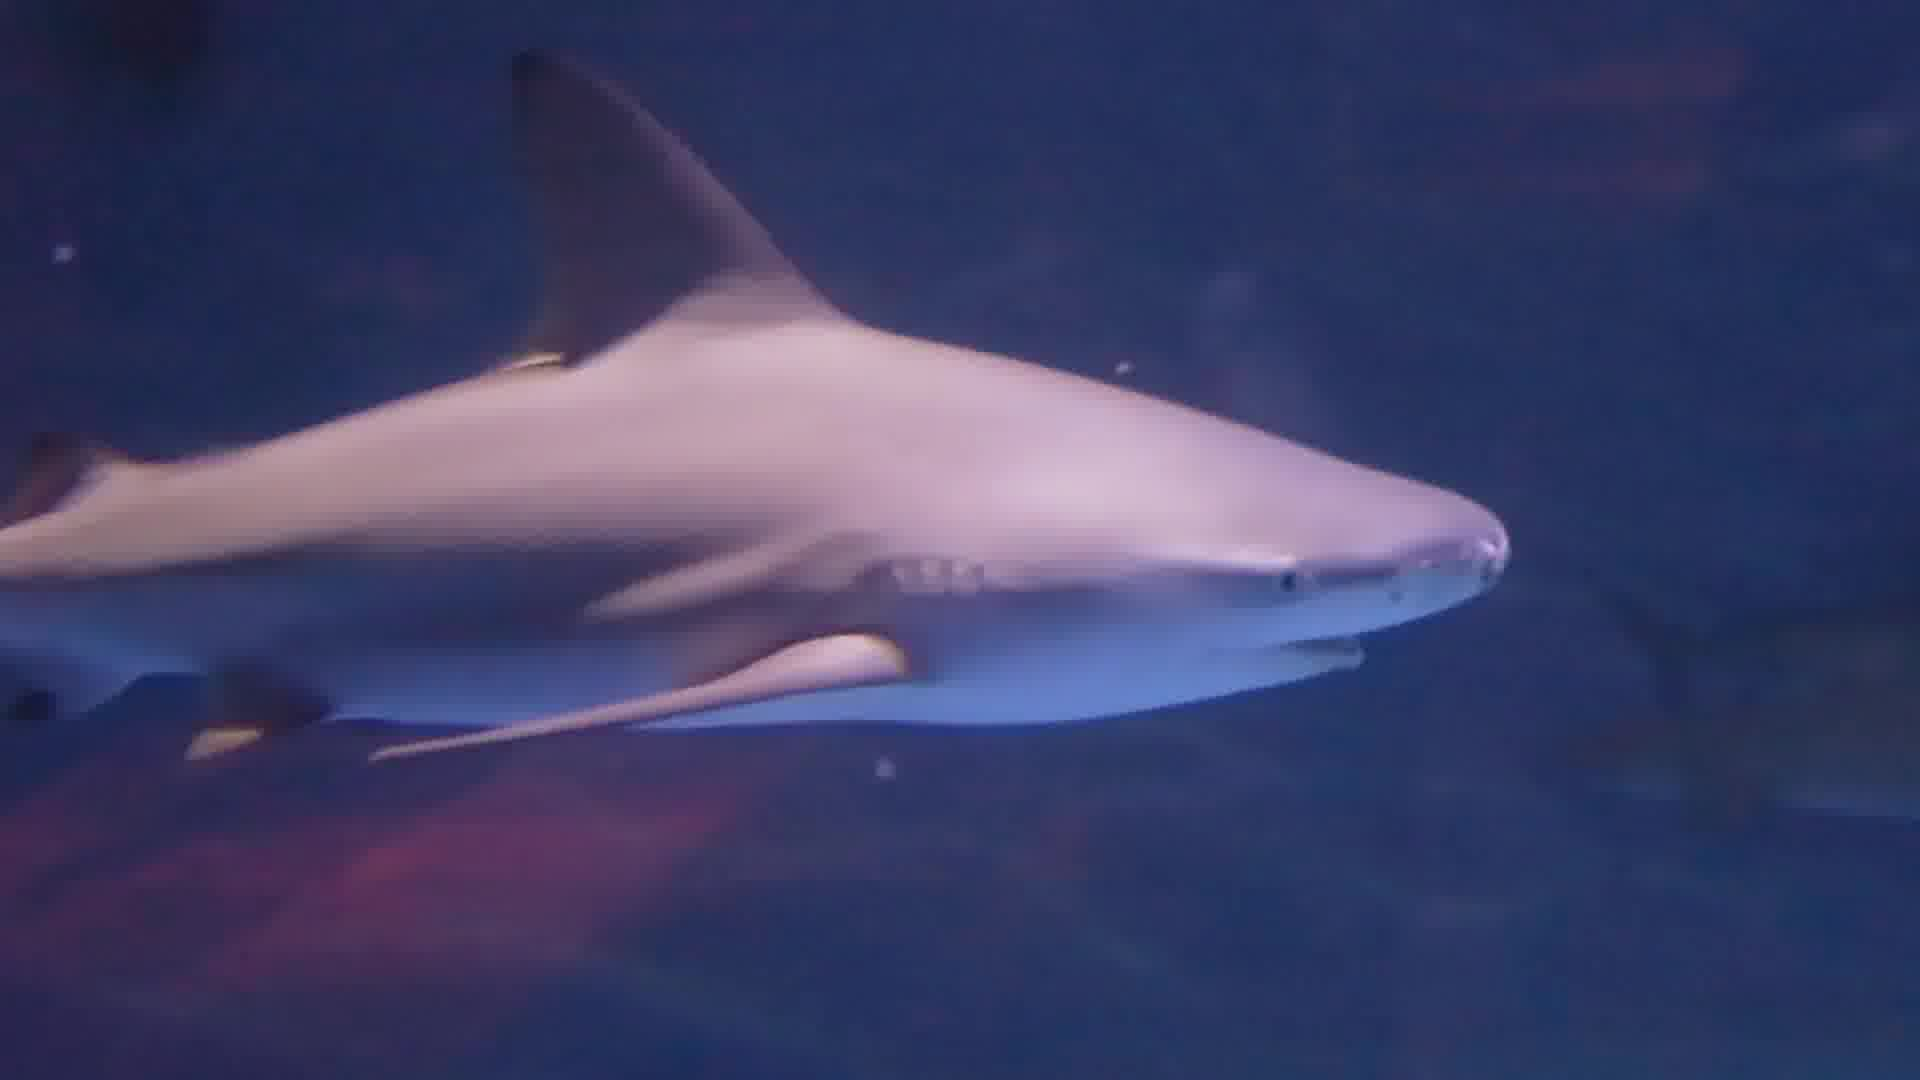Carcharhinus leucas: (26, 71, 1513, 820)
